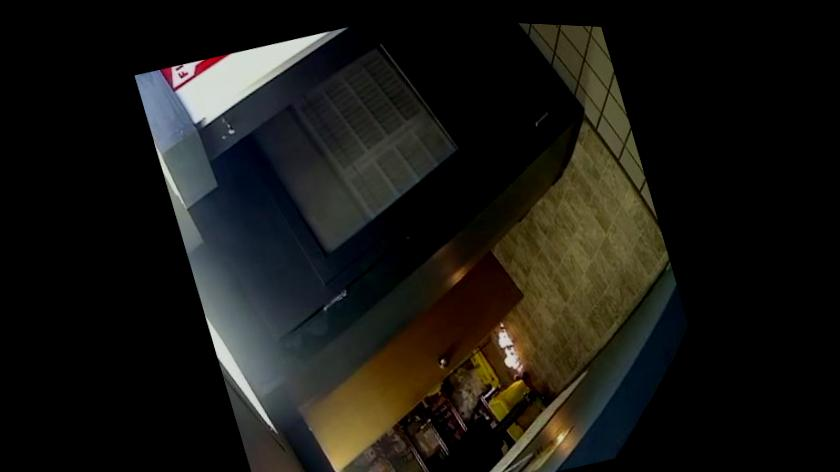fire: (472, 284, 536, 383)
